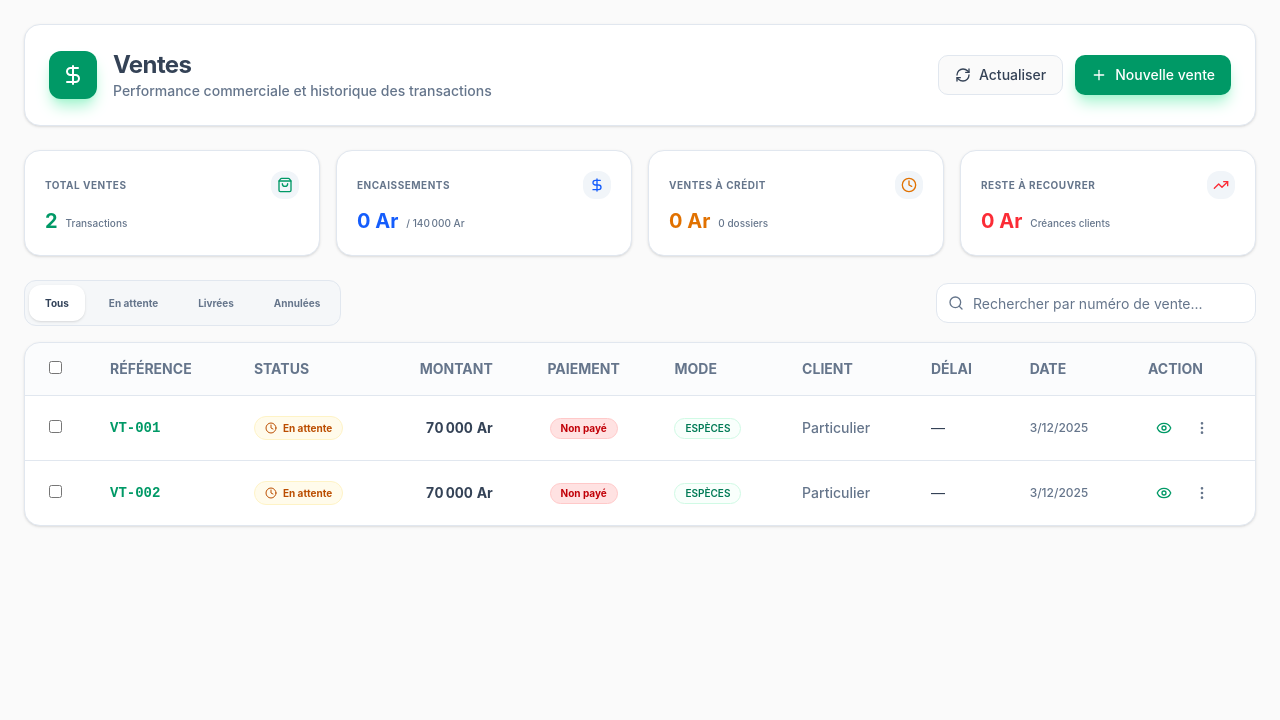
Mission 2 — Ventes : liste et suivi › recherche par numéro de vente
Expected: the text "VT-001" is shown, [86,396,230,460]
Type "vt-002" into the field with placeholder "Rechercher par numéro de vente..." at (1096, 303), box [936,283,1256,323]
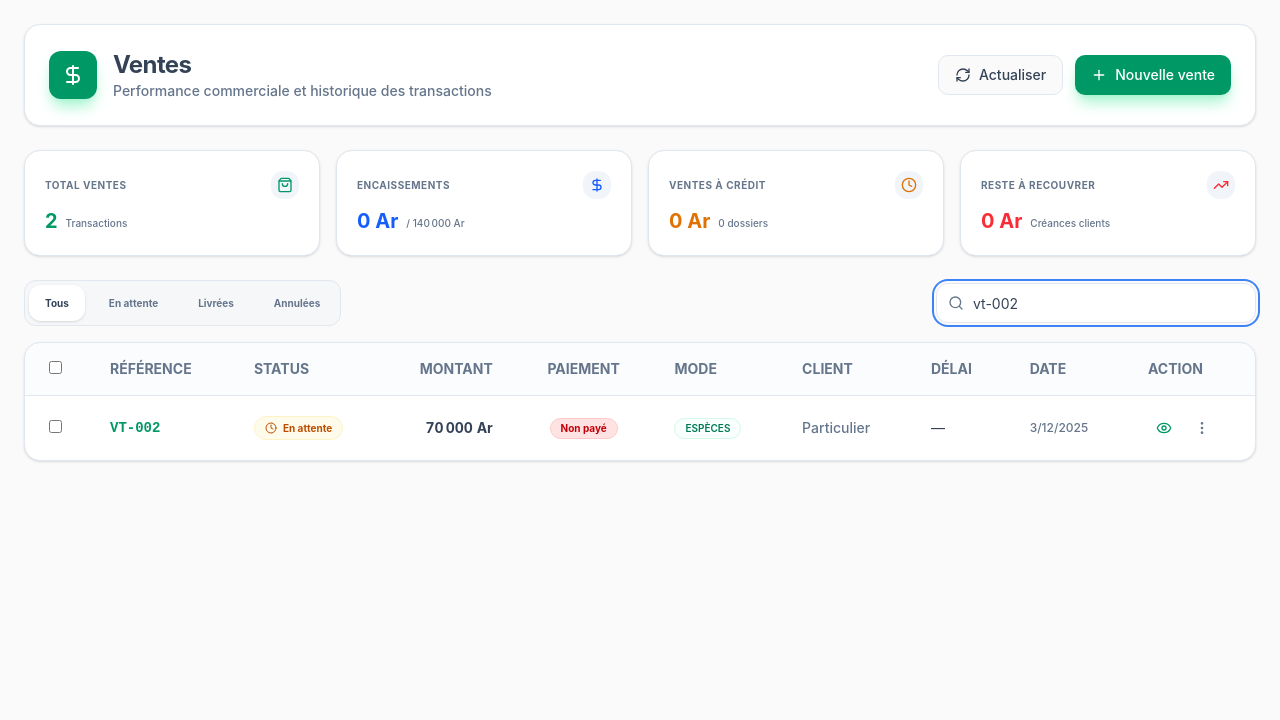
Expected: the text "VT-002" is shown, [86,396,230,460]
Expected: the text "VT-001" is gone
